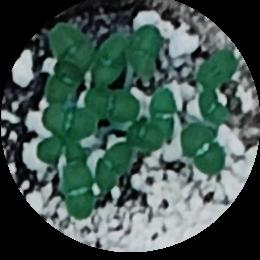Basil: (123, 24, 169, 79), (44, 102, 101, 143), (39, 56, 84, 102), (184, 129, 228, 175), (148, 82, 184, 135), (96, 140, 131, 194), (88, 87, 138, 124), (95, 33, 127, 90), (52, 21, 94, 62), (64, 167, 95, 219), (34, 134, 84, 166), (195, 51, 238, 88), (197, 89, 228, 125), (128, 120, 162, 152)
